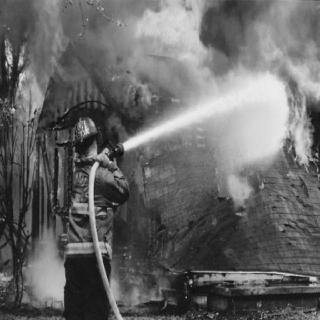Fire: (17, 2, 204, 220), (207, 1, 317, 195)
